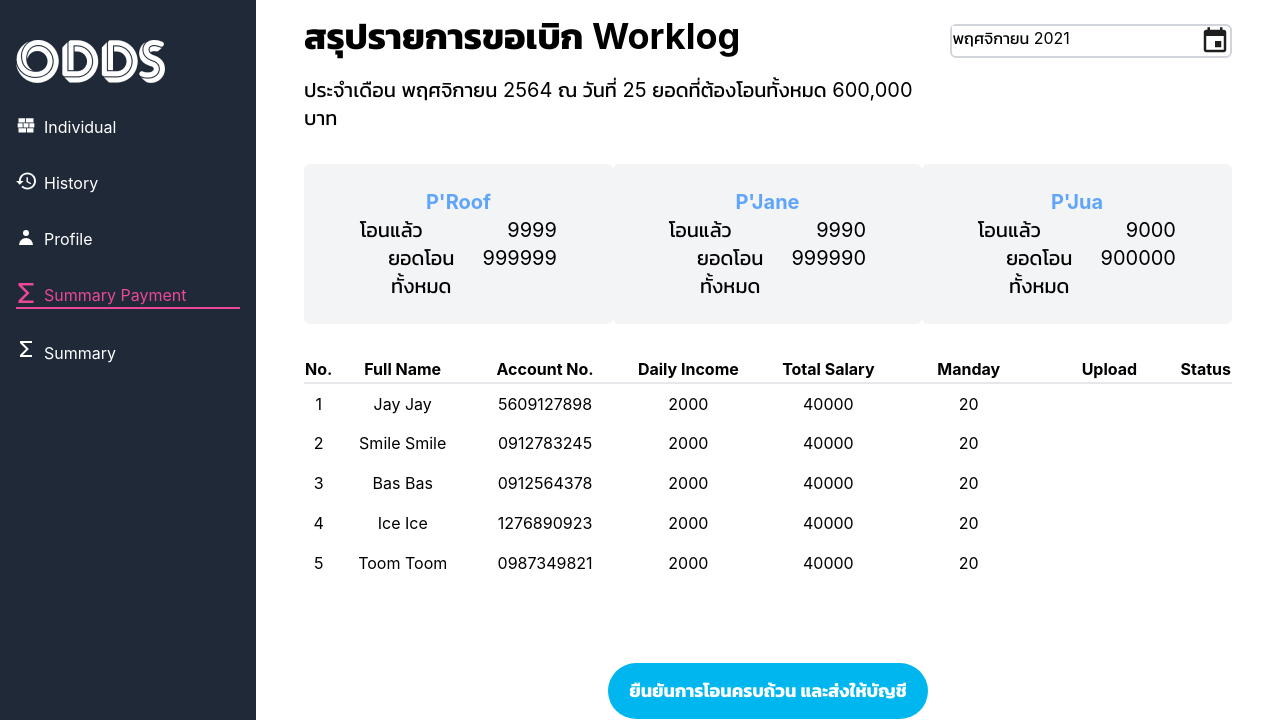
it: When click Confirm transfer button should display confirm popup › should display confirm popup when clicked confirmTransferBtn
This screenshot has width=1280, height=720.
Click the button with test id "confirmTransferBtn" at (768, 691), box [608,663,928,719]
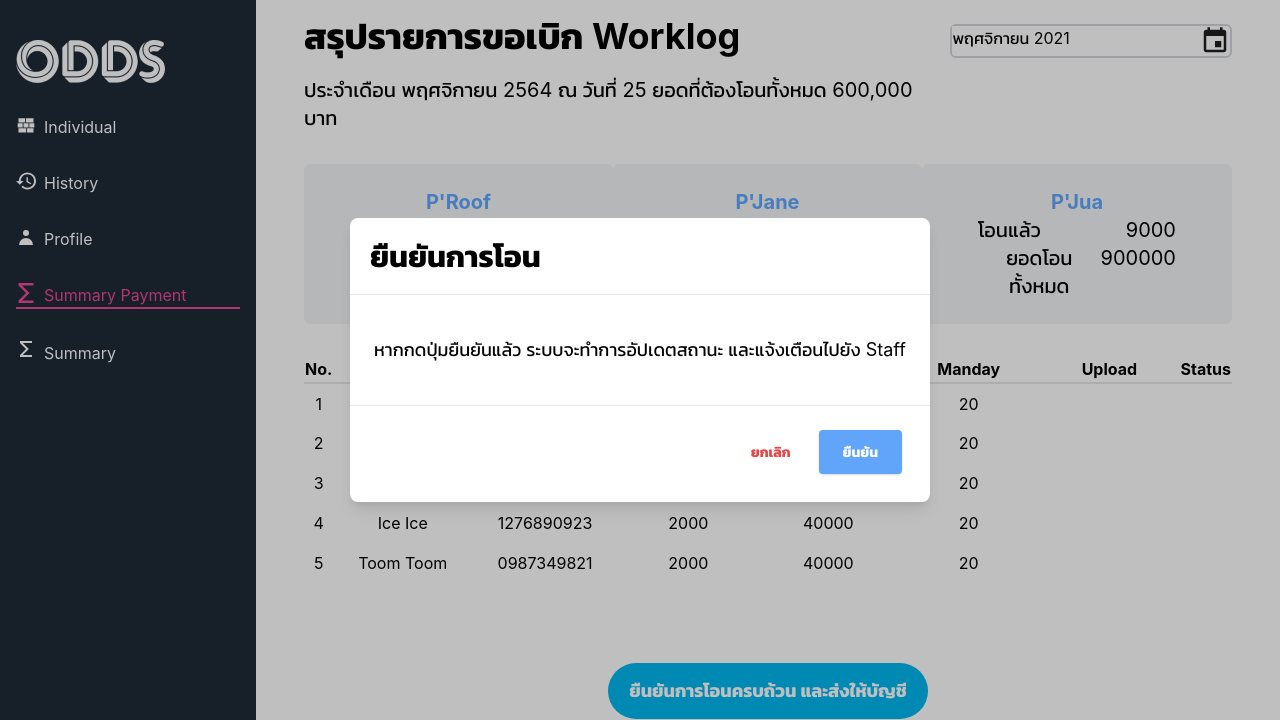
expect the heading "ยืนยันการโอน" is shown: met, box [370,238,541,274]
expect the text "หากกดปุ่มยืนยันแล้ว ระบบจะทำการอัปเดตสถานะ และแจ้งเตือนไปยัง Staff" is shown: met, box [374,335,906,365]
expect the button "ยืนยัน" is shown: met, box [818,430,902,474]
